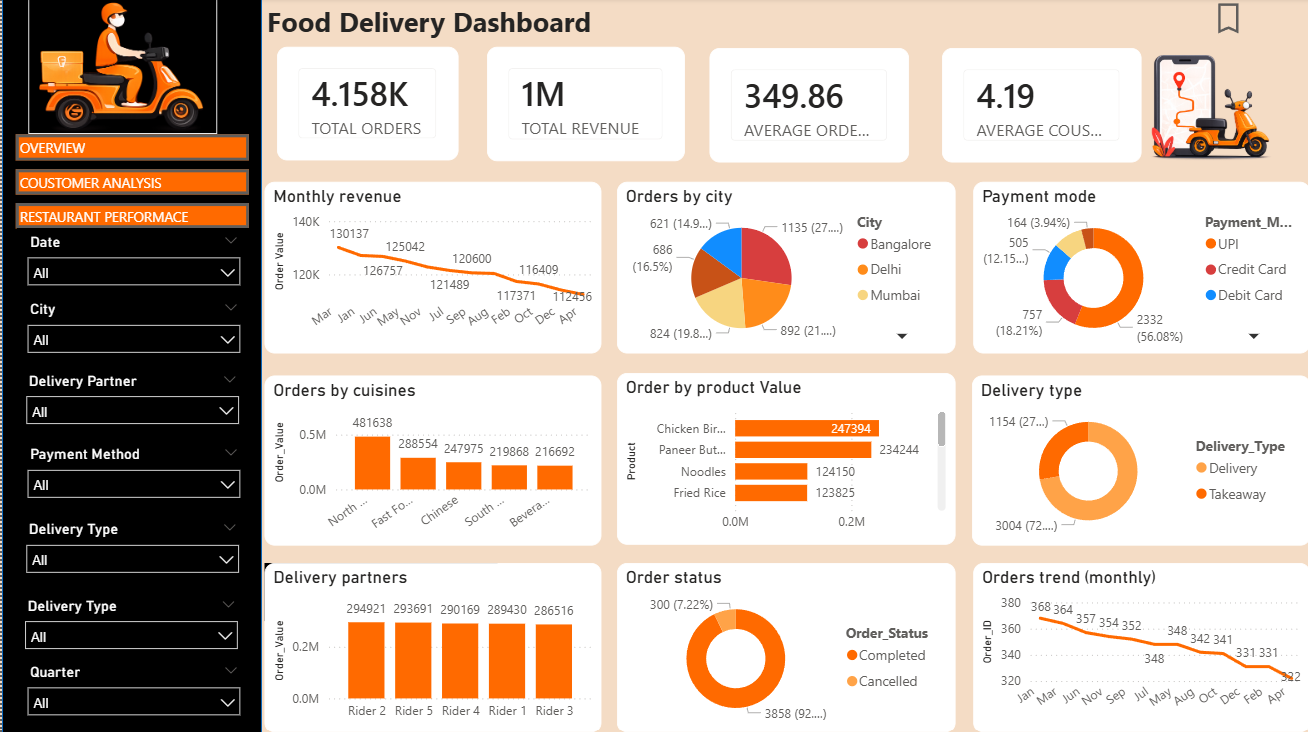

The dashboard page shown, as its layout file describes it:
{"tool":"powerbi","page":{"name":"Page 1","canvas":[1280,720],"ordinal":0},"visuals":[{"type":"shape","box":[0,0,254.3,721],"z":0},{"type":"actionButton","title":"OVERVIEW","box":[13.6,133.3,228.4,25.9],"z":1000},{"type":"actionButton","title":"OVERVIEW","box":[13.6,167.9,228.4,24.7],"z":2000},{"type":"actionButton","title":"OVERVIEW","box":[13.6,200,228.4,24.7],"z":3000},{"type":"image","box":[25.9,0,184,133.3],"z":4000},{"type":"slicer","fields":{"Values":["Orders.Order_Date"]},"box":[14.8,224.7,228.4,56.8],"z":5000},{"type":"slicer","fields":{"Values":["Orders.City"]},"box":[14.8,291.4,228.4,56.8],"z":6000},{"type":"slicer","fields":{"Values":["Orders.Delivery_Partner"]},"box":[13.6,360.5,228.4,56.8],"z":7000},{"type":"slicer","fields":{"Values":["Orders.Payment_Method"]},"box":[14.8,433.3,228.4,56.8],"z":8000},{"type":"slicer","fields":{"Values":["Orders.Delivery_Type"]},"box":[13.6,506.2,228.4,56.8],"z":9000},{"type":"image","box":[1086.4,50.6,193.8,111.1],"z":10000},{"type":"textbox","box":[253.9,0,385.6,54.9],"z":11000},{"type":"cardVisual","fields":{"Data":["CountNonNull(Orders.Order_ID)"]},"box":[269.1,48.1,177.8,111.1],"z":12000},{"type":"cardVisual","fields":{"Data":["Sum(Orders.Order_Value)"]},"box":[474.1,48.1,193.8,112.3],"z":13000},{"type":"cardVisual","fields":{"Data":["Avg(Orders.Order_Value)"]},"box":[692.6,49.4,195.1,112.3],"z":14000},{"type":"cardVisual","fields":{"Data":["Avg(Orders.Rating)"]},"box":[919.8,49.4,195.1,112.3],"z":15000},{"type":"lineChart","title":"Monthly revenue","fields":{"Category":["Orders.Month"],"Y":["Sum(Orders.Order_Value)"]},"box":[256.8,180.2,329.6,167.9],"z":16000},{"type":"pieChart","title":"Orders by city","fields":{"Category":["Orders.City"],"Y":["CountNonNull(Orders.Order_ID)"]},"box":[601.2,180.2,330.9,167.9],"z":17000},{"type":"donutChart","title":"Payment mode","fields":{"Y":["CountNonNull(Orders.Order_ID)"],"Category":["Orders.Payment_Method"]},"box":[950.6,180.2,329.6,167.9],"z":18000},{"type":"columnChart","title":"Orders by cuisines","fields":{"Y":["Sum(Orders.Order_Value)"],"Category":["Orders.Cuisine"]},"box":[256.8,369.1,329.6,166.7],"z":19000},{"type":"clusteredBarChart","title":"Order by product Value ","fields":{"Category":["Orders.Product"],"Y":["Sum(Orders.Order_Value)"]},"box":[601.2,366.7,330.9,167.9],"z":20000},{"type":"donutChart","title":"Delivery type","fields":{"Category":["Orders.Delivery_Type"],"Y":["CountNonNull(Orders.Order_ID)"]},"box":[949.4,369.1,330.9,166.7],"z":21000},{"type":"slicer","fields":{"Values":["Orders.Month"]},"box":[256.8,553.1,228.4,56.8],"z":22000},{"type":"slicer","fields":{"Values":["Orders.Quarter"]},"box":[14.8,645.7,228.4,64.2],"z":23000},{"type":"columnChart","title":"Delivery partners","fields":{"Y":["Sum(Orders.Order_Value)"],"Category":["Orders.Delivery_Partner"]},"box":[256.8,553.1,329.6,166.7],"z":24000},{"type":"donutChart","title":"Order status","fields":{"Y":["CountNonNull(Orders.Order_ID)"],"Category":["Orders.Order_Status"]},"box":[601.2,553.1,330.9,166.7],"z":25000},{"type":"lineChart","title":"Orders trend (monthly)","fields":{"Y":["CountNonNull(Orders.Order_ID)"],"Category":["Orders.Month"]},"box":[950.6,553.1,329.6,166.7],"z":26000},{"type":"slicer","fields":{"Values":["Orders.Delivery_Type"]},"box":[12.3,580.2,228.4,56.8],"z":27000},{"type":"actionButton","box":[1180.2,0,100,39.5],"z":28000}]}

Visuals, with their boxes in screenshot pixels (x1, y1, x2, y2), scaled from the page's 1280x720 canvas onto the 1308x732 screenshot:
shape: [left=0, top=0, right=260, bottom=731]
"OVERVIEW" actionButton: [left=14, top=136, right=247, bottom=162]
"OVERVIEW" actionButton: [left=14, top=171, right=247, bottom=196]
"OVERVIEW" actionButton: [left=14, top=203, right=247, bottom=228]
image: [left=26, top=0, right=214, bottom=136]
slicer - Orders.Order_Date: [left=15, top=228, right=249, bottom=286]
slicer - Orders.City: [left=15, top=296, right=249, bottom=354]
slicer - Orders.Delivery_Partner: [left=14, top=367, right=247, bottom=424]
slicer - Orders.Payment_Method: [left=15, top=441, right=249, bottom=498]
slicer - Orders.Delivery_Type: [left=14, top=515, right=247, bottom=572]
image: [left=1110, top=51, right=1307, bottom=164]
textbox: [left=259, top=0, right=653, bottom=56]
cardVisual - CountNonNull(Orders.Order_ID): [left=275, top=49, right=457, bottom=162]
cardVisual - Sum(Orders.Order_Value): [left=484, top=49, right=683, bottom=163]
cardVisual - Avg(Orders.Order_Value): [left=708, top=50, right=907, bottom=164]
cardVisual - Avg(Orders.Rating): [left=940, top=50, right=1139, bottom=164]
"Monthly revenue" lineChart: [left=262, top=183, right=599, bottom=354]
"Orders by city" pieChart: [left=614, top=183, right=952, bottom=354]
"Payment mode" donutChart: [left=971, top=183, right=1307, bottom=354]
"Orders by cuisines" columnChart: [left=262, top=375, right=599, bottom=545]
"Order by product Value " clusteredBarChart: [left=614, top=373, right=952, bottom=544]
"Delivery type" donutChart: [left=970, top=375, right=1307, bottom=545]
slicer - Orders.Month: [left=262, top=562, right=496, bottom=620]
slicer - Orders.Quarter: [left=15, top=656, right=249, bottom=722]
"Delivery partners" columnChart: [left=262, top=562, right=599, bottom=731]
"Order status" donutChart: [left=614, top=562, right=952, bottom=731]
"Orders trend (monthly)" lineChart: [left=971, top=562, right=1307, bottom=731]
slicer - Orders.Delivery_Type: [left=13, top=590, right=246, bottom=648]
actionButton: [left=1206, top=0, right=1307, bottom=40]
